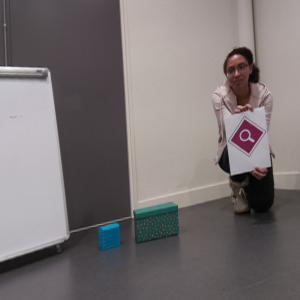search: (229, 115, 266, 157)
